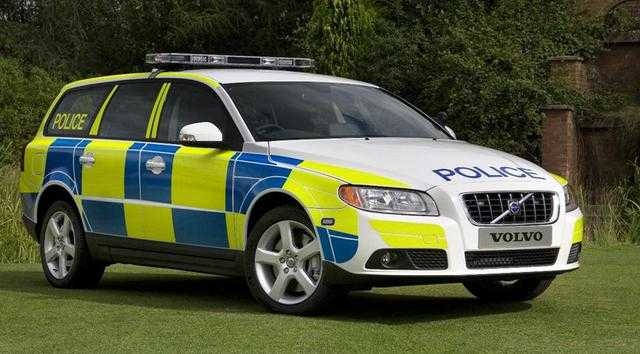Police Car: (30, 32, 586, 313)
